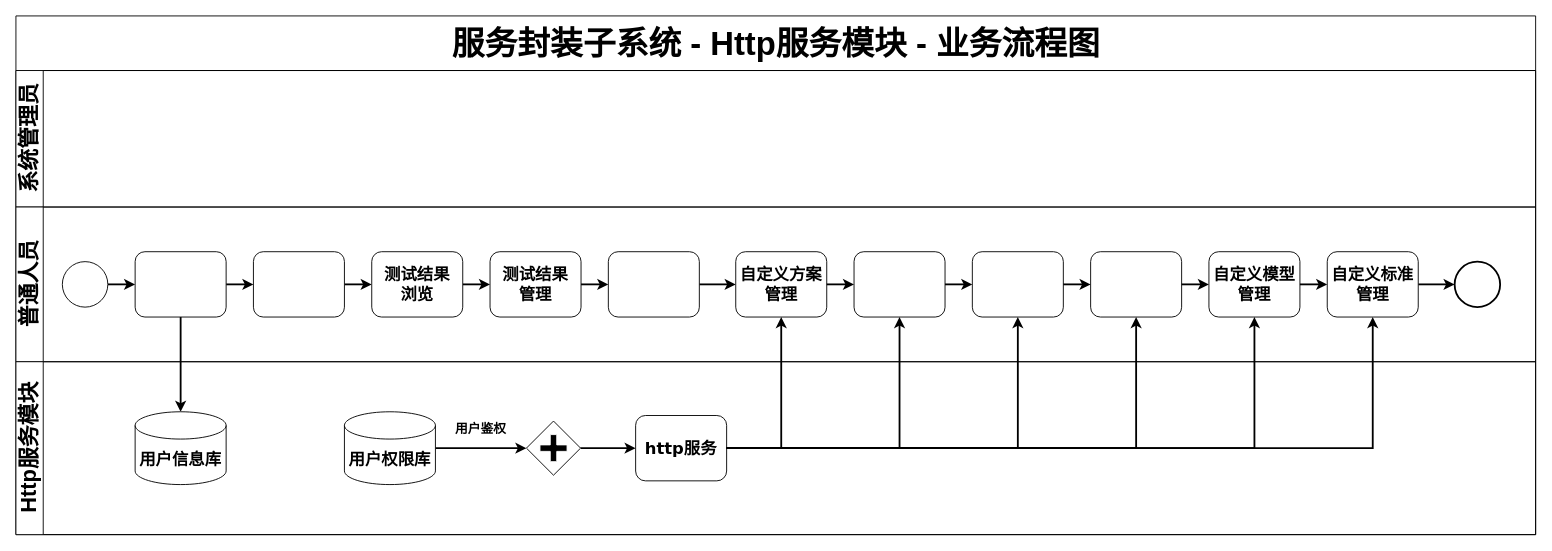
This 1552x551 diagram has some shape labels left out. The shapes that lost their labels are listed below. From the top down, each one's centre as x and y in pixels, then its label:
(180,284): 用户登录
(298,284): 测试任务 发起
(653,284): 测试任务 管理
(899,284): 自定义工具 管理
(1017,284): 自定义算法 管理
(1136,284): 自定义用例 管理
